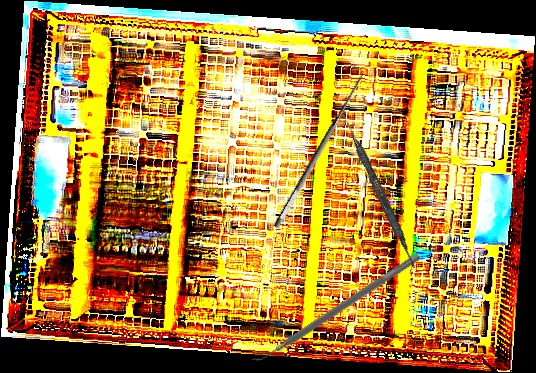Hook Surgical: (260, 63, 371, 230)
Spatula Surgical: (248, 245, 421, 370), (334, 106, 422, 270)
